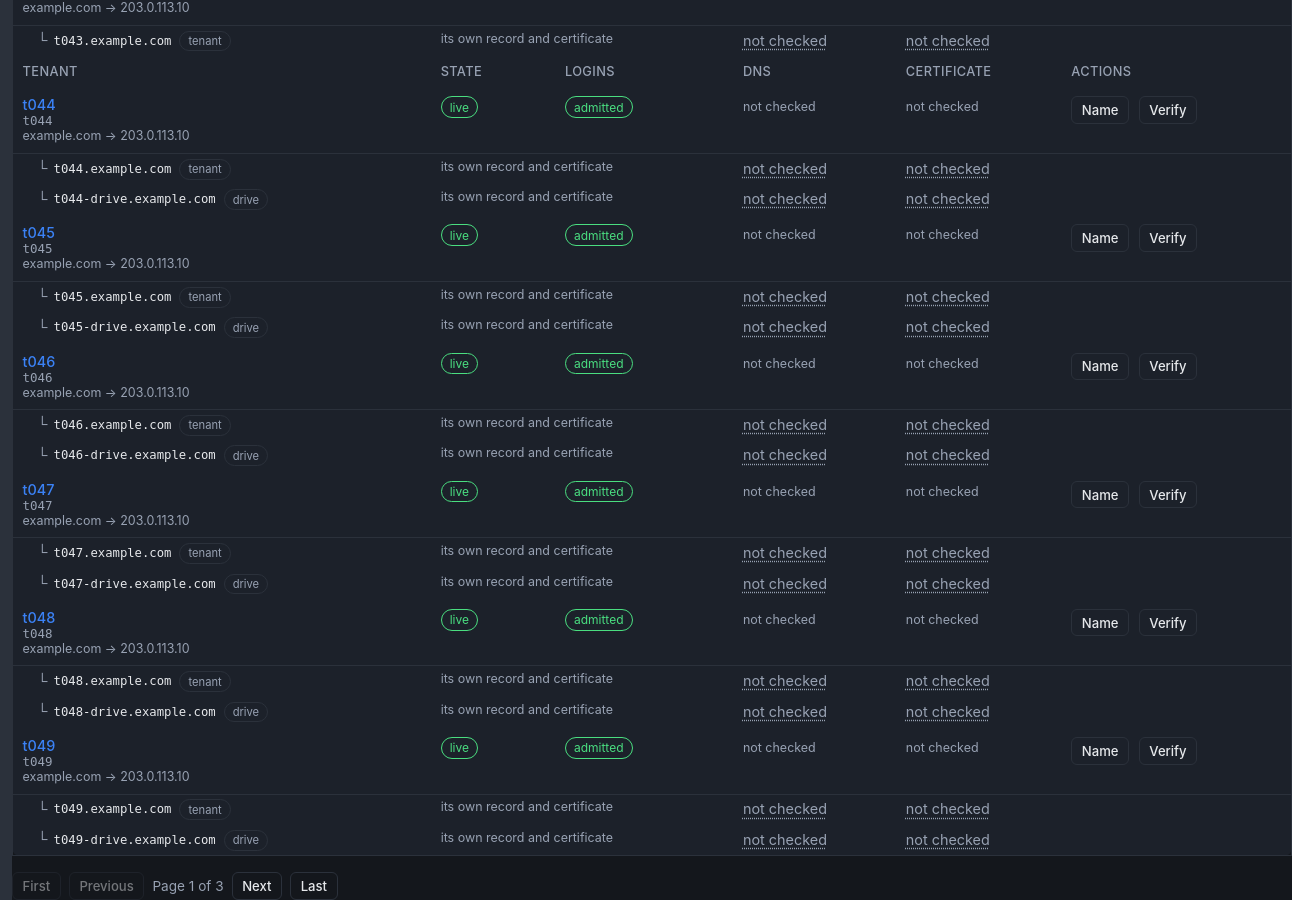
Test case: the pager › moves through the pages
(page scrolled)
Click the button "Next". click: coordinates (257, 886)
box: [232,872,282,899]
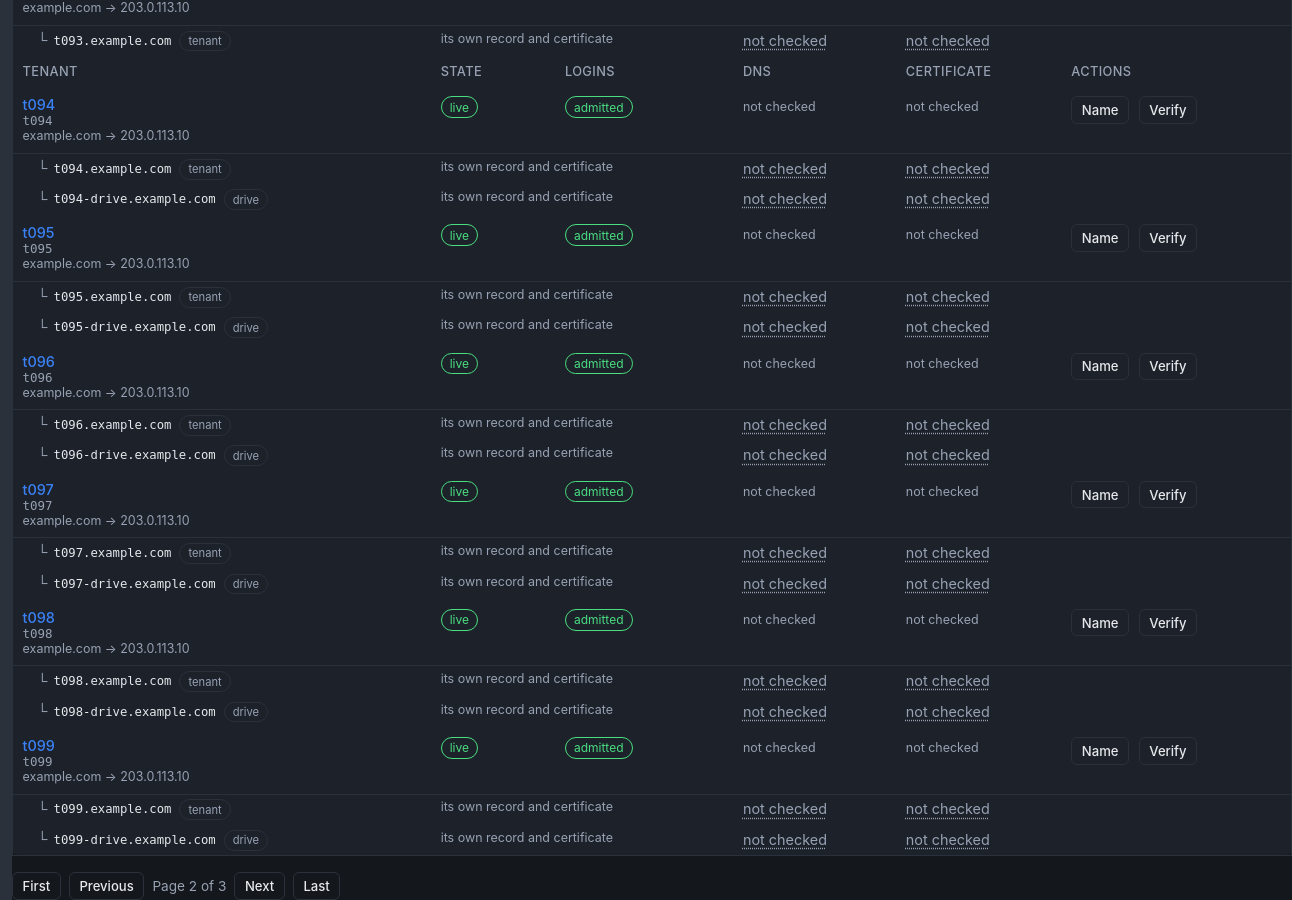
Click the button "Last". click: coordinates (317, 886)
box: [293,872,340,899]
(page scrolled)
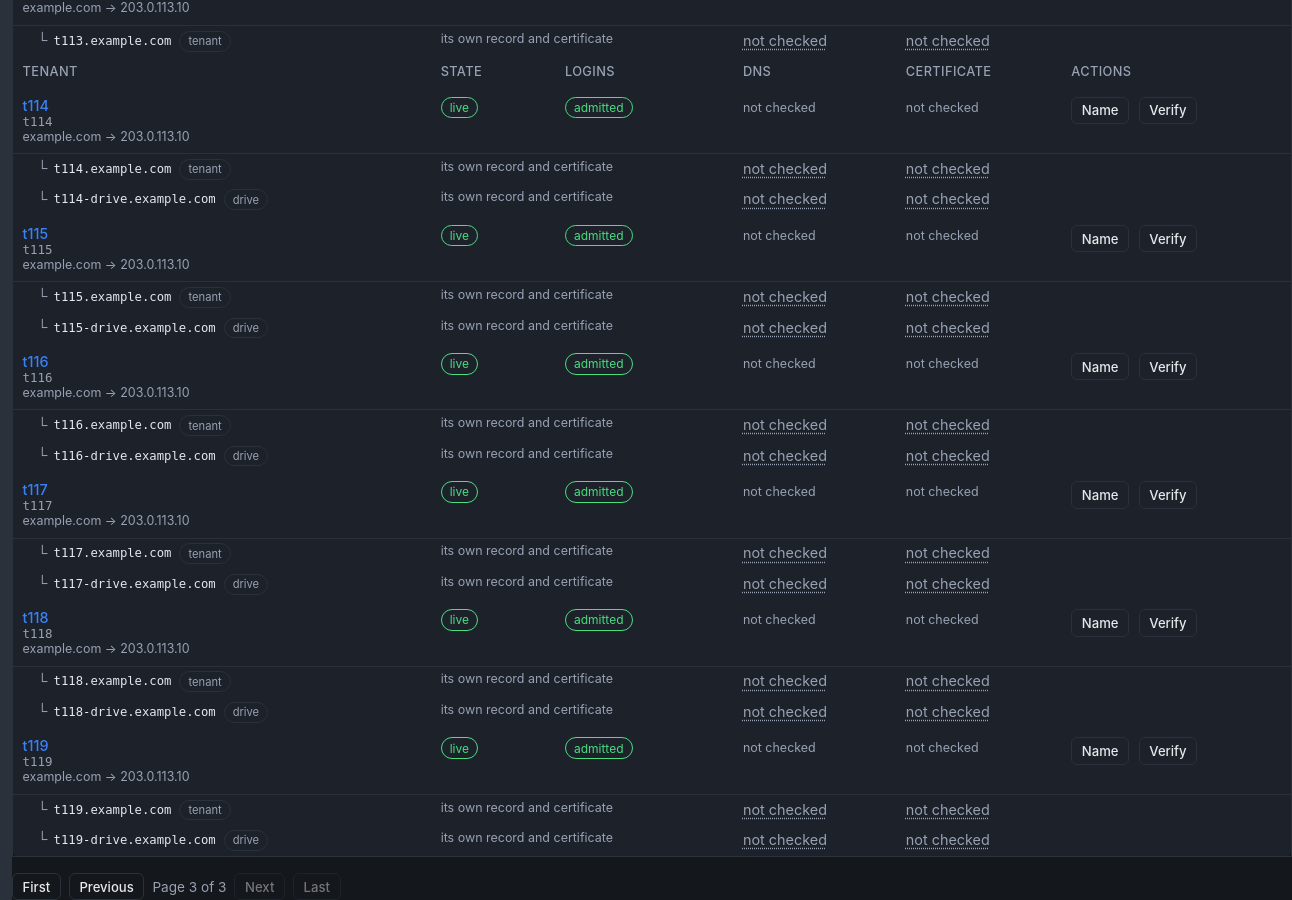
Expected: the text "t119" is shown, [23,737,48,754]
